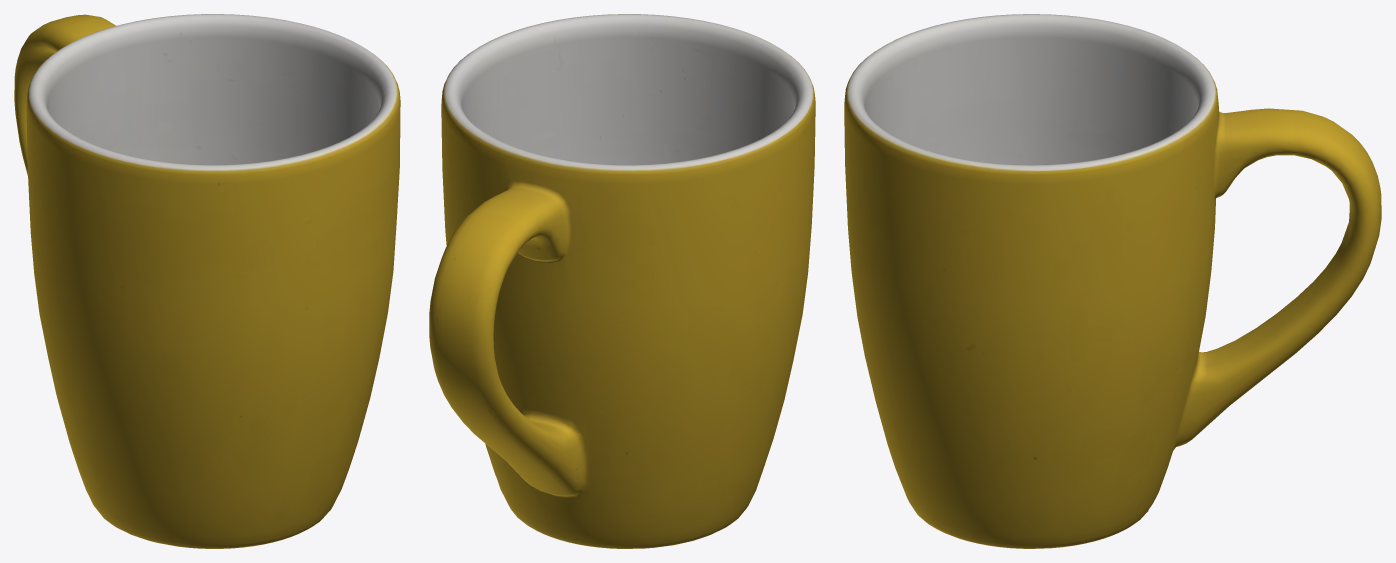
The model's file is mug.glb.
3 renders of one model, left to right at view 1: azimuth 30°, elevation 25°; view 2: azimuth 150°, elevation 25°; view 3: azimuth 270°, elevation 25°, orthographic.
Visible parts, largest first — view 1: opaque__ceramic__dishware_mug_c01; view 2: opaque__ceramic__dishware_mug_c01; view 3: opaque__ceramic__dishware_mug_c01.
Part boxes in pixels (x1,y1,x2,y2): opaque__ceramic__dishware_mug_c01: (14, 14, 400, 548); opaque__ceramic__dishware_mug_c01: (429, 14, 815, 548); opaque__ceramic__dishware_mug_c01: (844, 14, 1381, 548).
Size of the model in its own units: 0.0889 by 0.1072 by 0.1276.
Materials: 1 (1 with a texture image).
